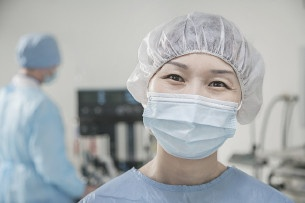Mask: (147, 57, 245, 156)
